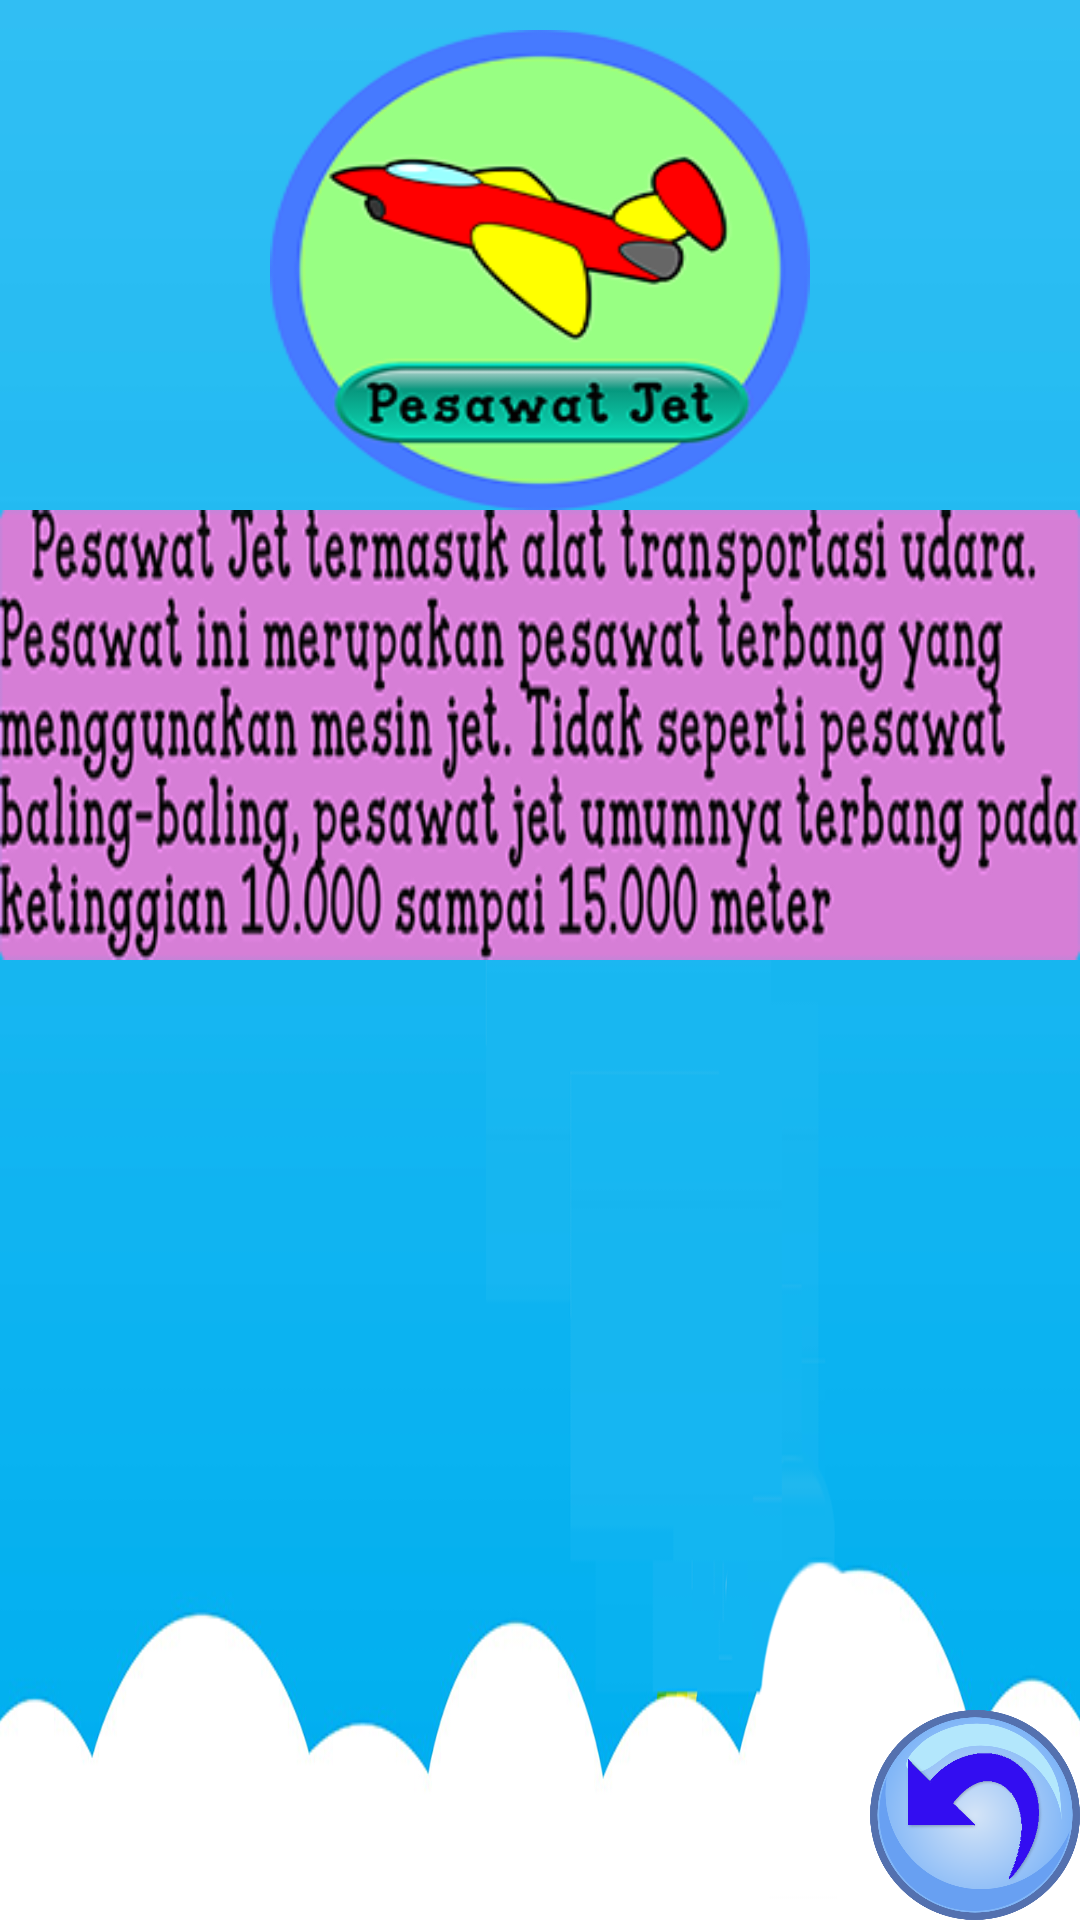

Named icons in this screenshot (1080px x 1920px) and their bounding boxes, (x1, y1, x2, y2):
back: (870, 1710, 1080, 1920)
